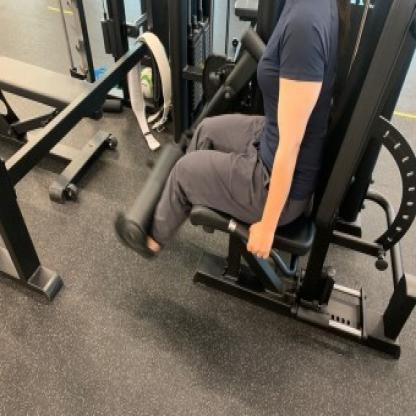leg extension: (91, 0, 416, 370)
